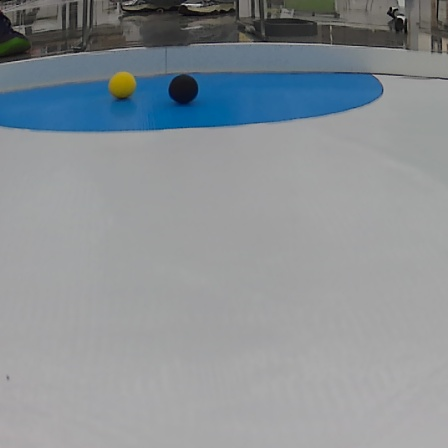black: (169, 73, 200, 104)
blue_base: (0, 70, 387, 133)
yellow: (106, 72, 136, 101)
